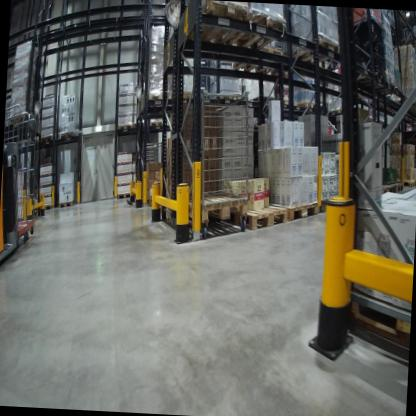pallet: (340, 285, 410, 344), (222, 9, 293, 56), (186, 1, 254, 48), (282, 30, 344, 73), (176, 187, 248, 224), (229, 200, 288, 231), (273, 198, 321, 225), (263, 50, 301, 82), (231, 48, 266, 76), (349, 69, 386, 92), (145, 88, 183, 109), (56, 126, 76, 154), (179, 89, 206, 107), (216, 87, 243, 104), (393, 95, 416, 113), (40, 129, 56, 153), (111, 188, 135, 204), (149, 116, 166, 132), (275, 97, 296, 109), (56, 198, 77, 210), (383, 182, 396, 201), (38, 200, 53, 216), (299, 97, 316, 111), (132, 120, 148, 134), (328, 105, 349, 115), (116, 123, 132, 136), (390, 180, 403, 195), (376, 184, 387, 200), (399, 178, 415, 188), (379, 117, 390, 129), (368, 116, 376, 123), (415, 177, 416, 187)
pallet_truck: (0, 135, 29, 281)
